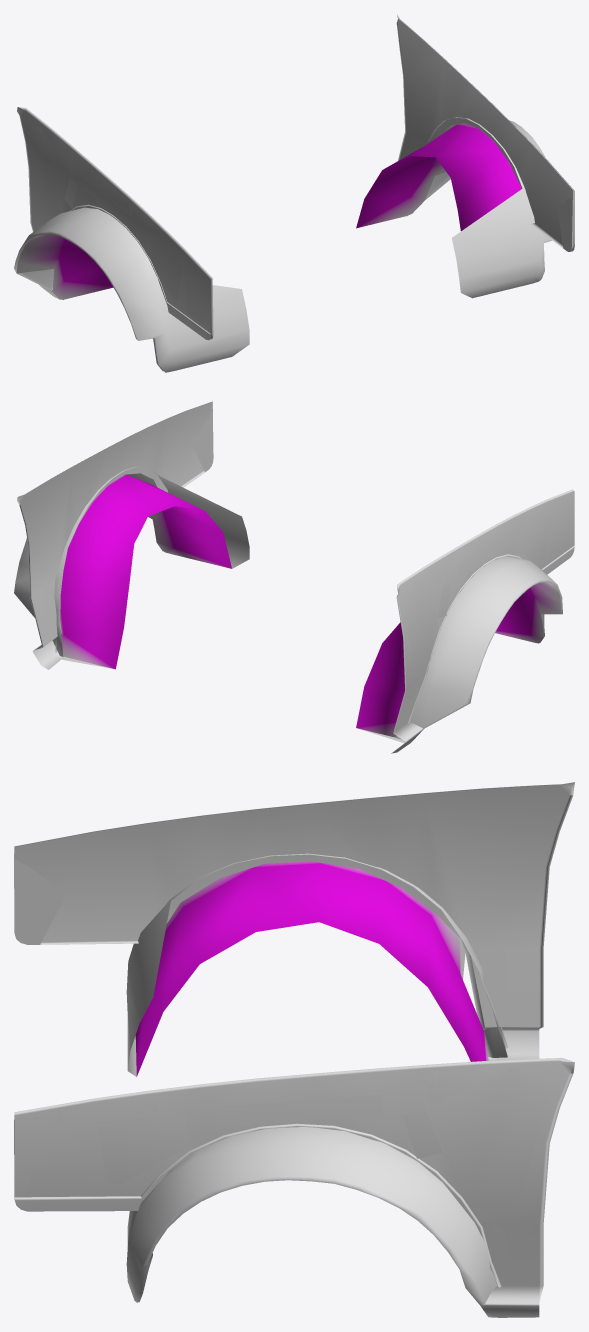
Rendered from Car_Buick_GrandNational_1987_FendersChassisF_SetD.fbx.
The picture shows the model from 3 angles, top to bottom: view 1: azimuth 30°, elevation 25°; view 2: azimuth 150°, elevation 25°; view 3: azimuth 270°, elevation 25°; orthographic projection. The views are drawn at different scales.
Parts seen in each view (by area): view 1: FendersChassisF 6; view 2: FendersChassisF 6; view 3: FendersChassisF 6.
Part boxes in pixels (left/top/right/bottom): FendersChassisF 6: left=14, top=14, right=574, bottom=372; FendersChassisF 6: left=14, top=401, right=574, bottom=753; FendersChassisF 6: left=14, top=782, right=574, bottom=1317.
Size of the model in its own units: 1.94 by 0.7218 by 1.36.
